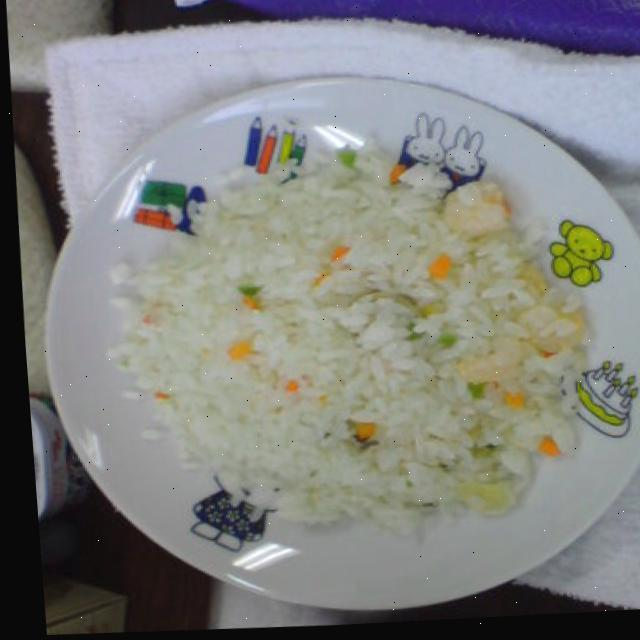米饭主食: (18, 52, 640, 631)
